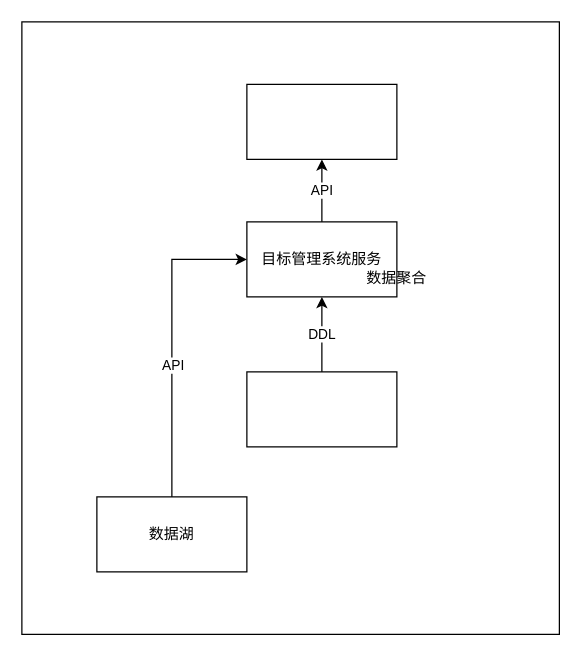
The diagram is 581 pixels wide and 656 high, and some of its shapes have lost their labels. The shapes that lost their labels are listed below. From the top down, each one's centre as x and y in pixels, then its label:
At pixel 321 121: "目标管理系统微前端".
At pixel 321 409: "mysql".
